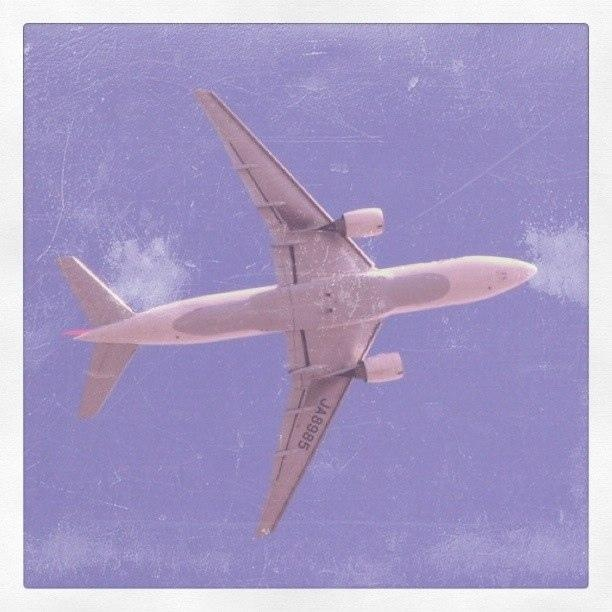airplane: (50, 85, 541, 547)
